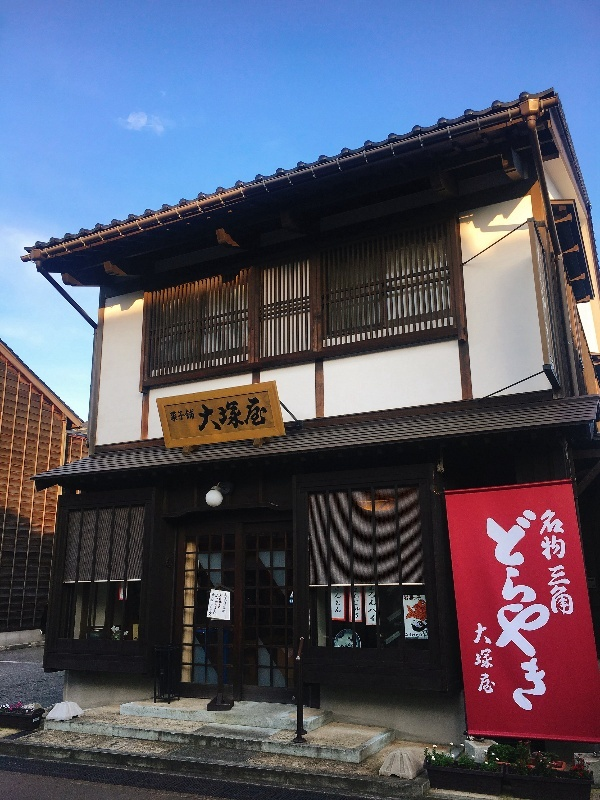text: (481, 497, 496, 722), (497, 497, 512, 722), (513, 497, 528, 722), (529, 497, 544, 722), (545, 497, 553, 722), (545, 501, 560, 620), (561, 501, 576, 620), (481, 617, 497, 698), (471, 617, 480, 698), (538, 501, 544, 620), (209, 396, 224, 436), (225, 396, 240, 436), (241, 396, 256, 436), (257, 396, 270, 436), (196, 396, 208, 436), (354, 586, 368, 620), (225, 593, 240, 613), (213, 593, 224, 617), (369, 585, 376, 622), (177, 409, 192, 424), (216, 593, 224, 616), (337, 586, 342, 613), (170, 409, 176, 424), (219, 594, 224, 609), (404, 595, 416, 601), (334, 586, 336, 613), (406, 633, 416, 638), (193, 409, 196, 424), (417, 633, 424, 638), (417, 595, 422, 601)
